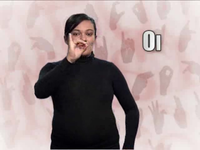oi: (68, 33, 88, 62)
